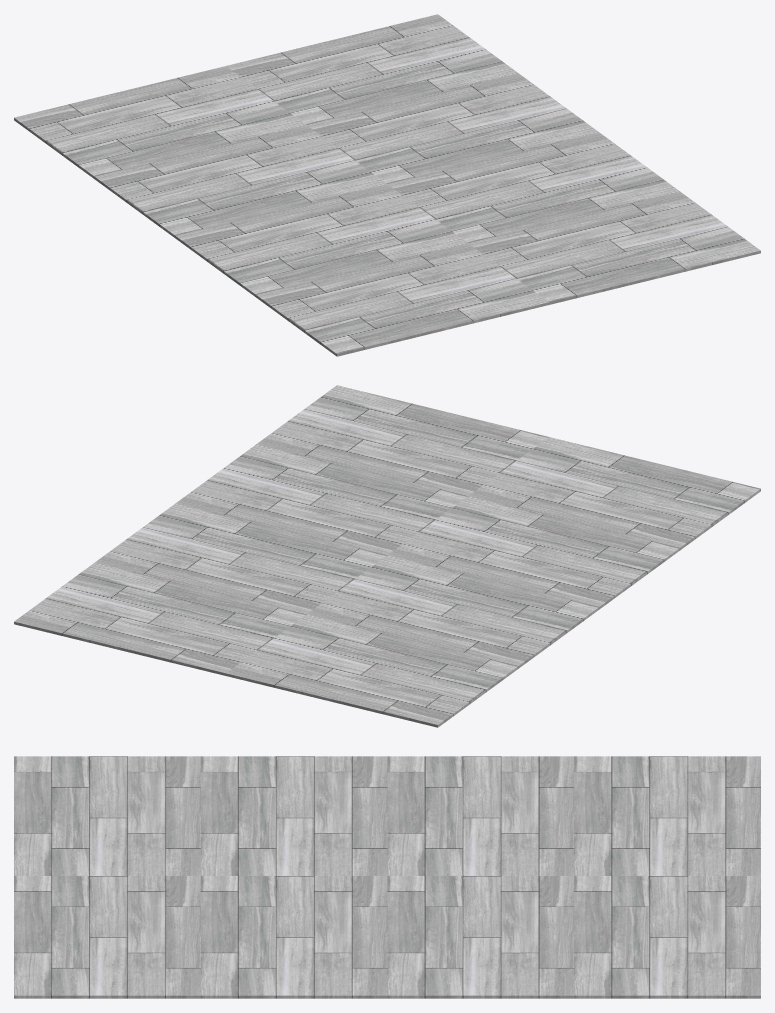
Rendered from piso.obj.
The picture shows the model from 3 angles, top to bottom: view 1: azimuth 30°, elevation 25°; view 2: azimuth 150°, elevation 25°; view 3: azimuth 270°, elevation 25°; orthographic projection. The views are drawn at different scales.
Visible parts, largest first — view 1: Superficie; view 2: Superficie; view 3: Superficie.
Part boxes in pixels (x1,y1,x2,y2): Superficie: (14, 14, 760, 356); Superficie: (14, 385, 760, 727); Superficie: (14, 756, 760, 998).
Bounding box in the file's own units: 332 × 2 × 438.
1 material, 1 textured.
